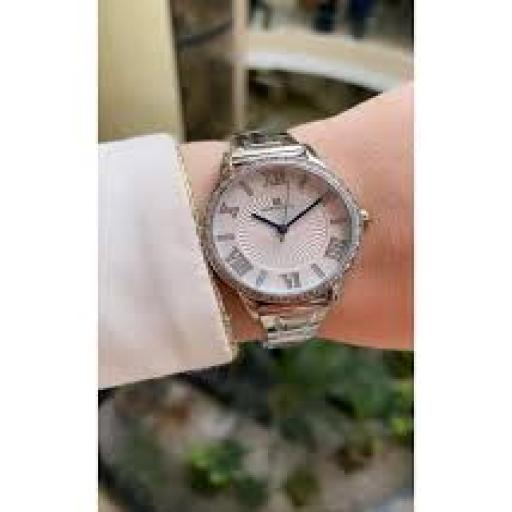KolSaati: (201, 121, 373, 360)
